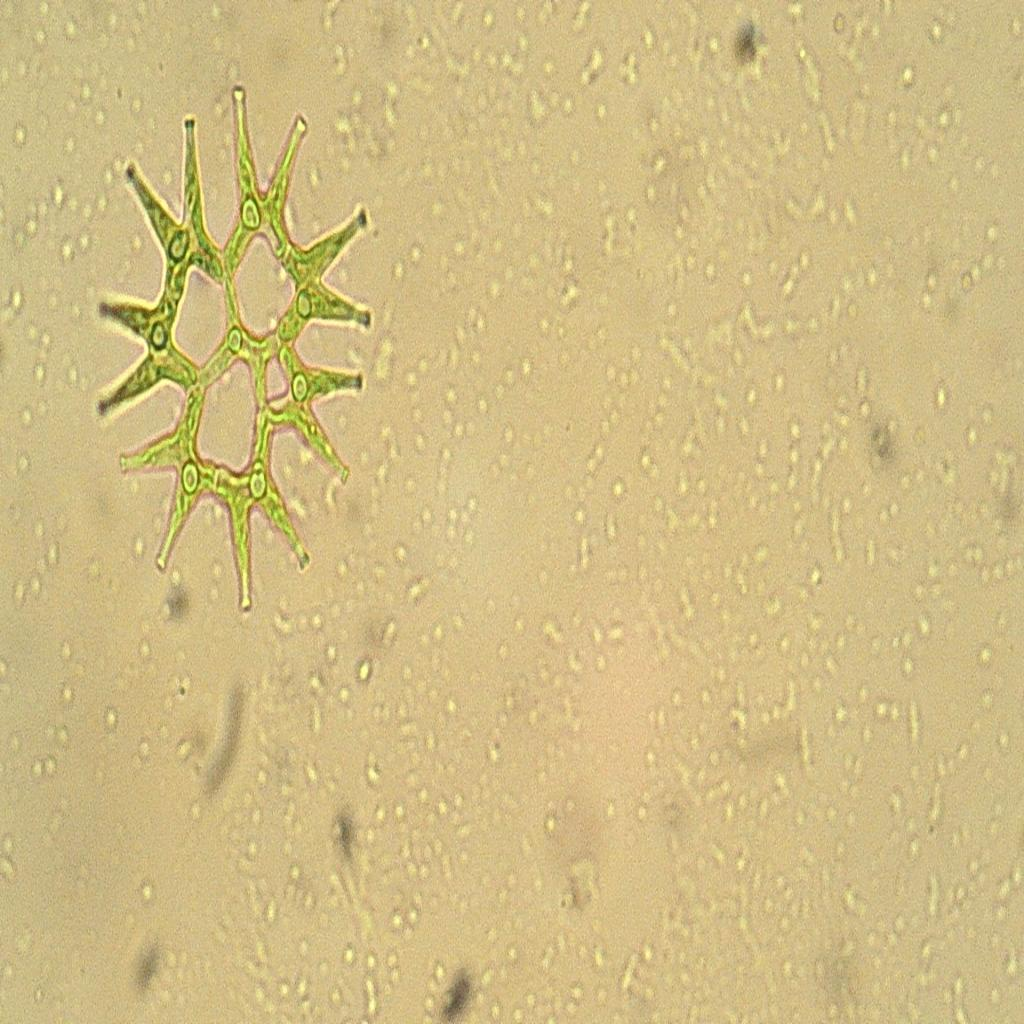Pediastrum_CTH: (82, 58, 395, 640)
